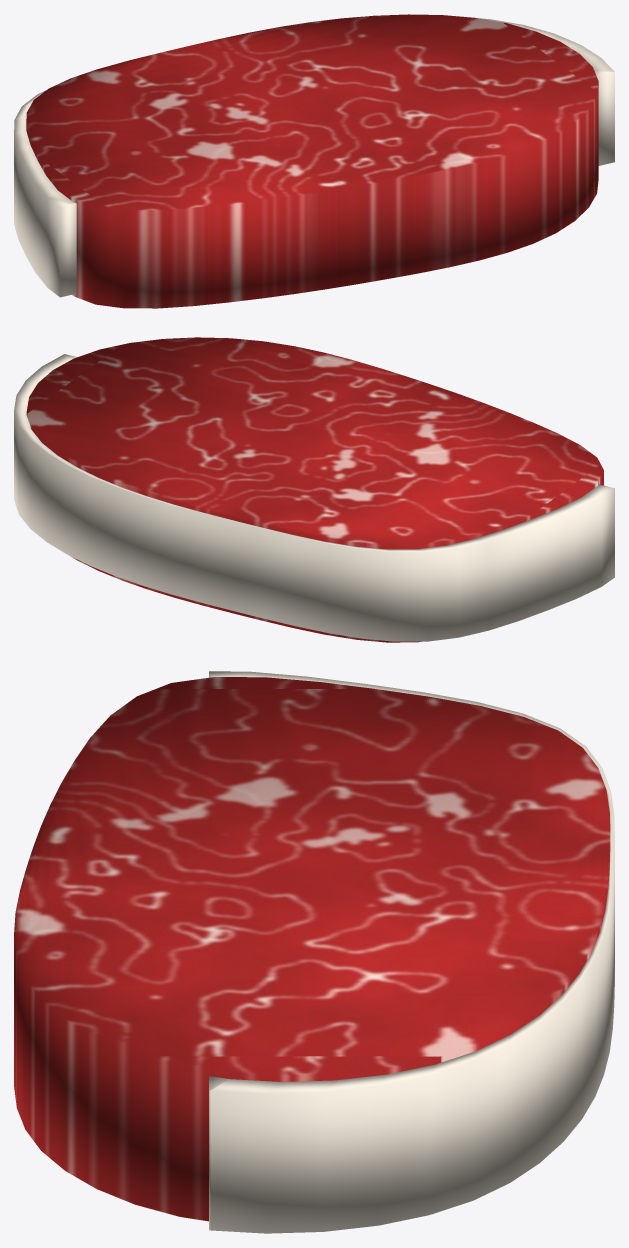
Rendered from kr_steak.glb.
The picture shows the model from 3 angles, top to bottom: view 1: azimuth 30°, elevation 25°; view 2: azimuth 150°, elevation 25°; view 3: azimuth 270°, elevation 25°; orthographic projection. The views are drawn at different scales.
Visible parts, largest first — view 1: kr_steak_f_marble, vc_m0_r4; view 2: kr_steak_f_marble, vc_m0_r4; view 3: kr_steak_f_marble, vc_m0_r4.
Part boxes in pixels (x1,y1,x2,y2): kr_steak_f_marble: [26, 14, 598, 308]; vc_m0_r4: [14, 18, 614, 297]; kr_steak_f_marble: [26, 337, 603, 642]; vc_m0_r4: [14, 354, 614, 641]; kr_steak_f_marble: [14, 677, 610, 1221]; vc_m0_r4: [209, 671, 614, 1233].
Size of the model in its own units: 0.2993 by 0.05 by 0.1797.
2 materials, 1 textured.
